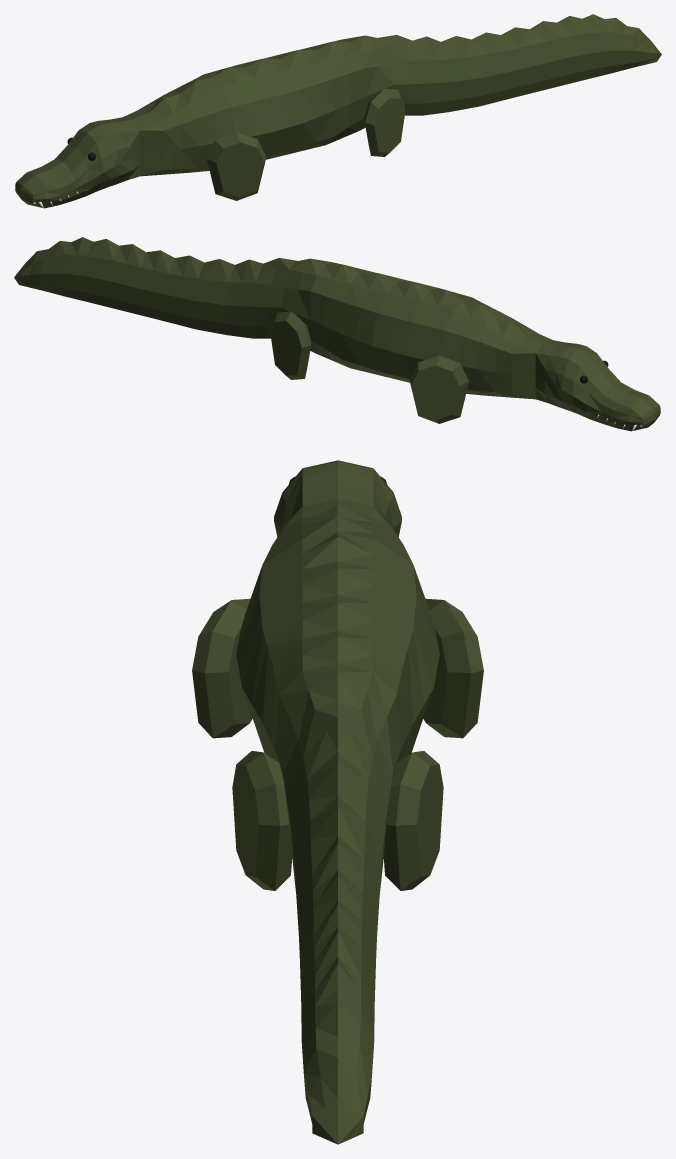
Rendered from Crocodile.fbx.
3 views of the same model, one above another, from view 1: azimuth 30°, elevation 25°; view 2: azimuth 150°, elevation 25°; view 3: azimuth 270°, elevation 25° (orthographic). The views are drawn at different scales.
Visible parts, largest first — view 1: Plane, Circle, Circle.001; view 2: Plane, Circle.003, Circle.002; view 3: Plane, Circle.001, Circle.002, Circle, Circle.003.
Part boxes in pixels (x1,y1,x2,y2): Plane: (15,14,661,208); Circle: (206,132,266,200); Circle.001: (364,88,405,156); Plane: (14,237,660,431); Circle.003: (409,355,468,423); Circle.002: (270,311,311,379); Plane: (236,460,439,1144); Circle.001: (232,751,292,890); Circle.002: (383,751,443,890); Circle: (192,598,252,738); Circle.003: (423,598,483,738).
Bounding box in the file's own units: 837 × 137 × 165.
